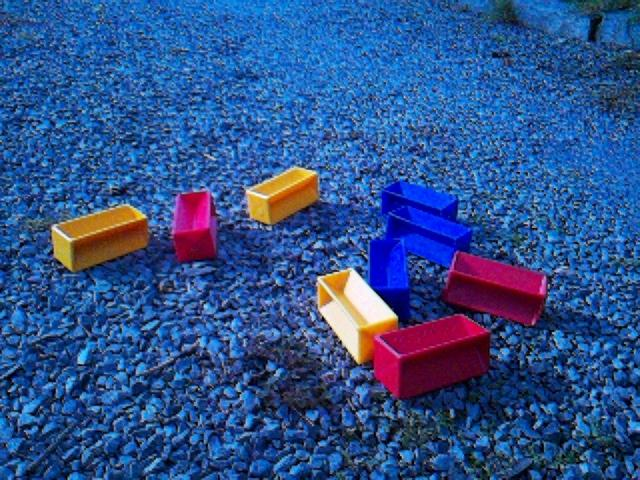blue: (385, 205, 472, 268), (367, 237, 412, 321), (380, 180, 460, 221)
red: (373, 314, 492, 400), (442, 250, 549, 327), (172, 189, 219, 263)
yellow: (316, 267, 399, 365), (51, 203, 150, 273), (245, 166, 320, 226)
